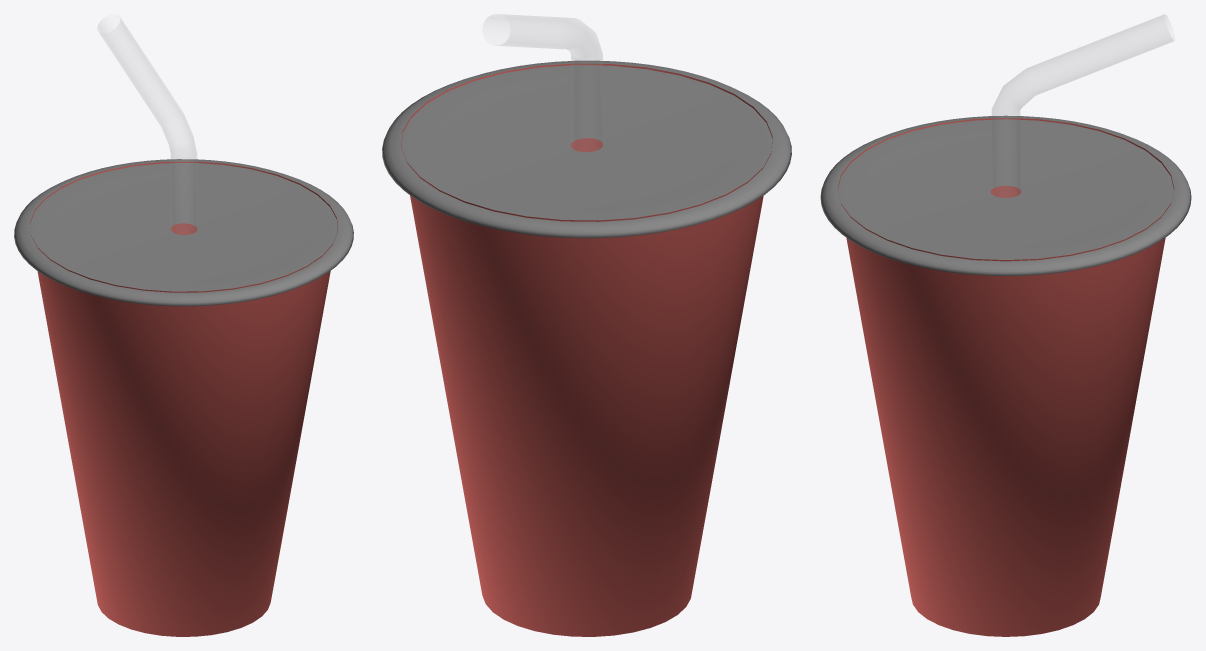
The model's file is cup.fbx.
The picture shows the model from 3 angles, left to right: view 1: azimuth 30°, elevation 25°; view 2: azimuth 150°, elevation 25°; view 3: azimuth 270°, elevation 25°; orthographic projection. The views are drawn at different scales.
Parts seen in each view (by area): view 1: Cylinder, Cylinder.001, Cylinder.002; view 2: Cylinder, Cylinder.001, Cylinder.002; view 3: Cylinder, Cylinder.001, Cylinder.002.
Boxes of the visible parts, left/top/right/bottom form: Cylinder: left=30, top=161, right=337, bottom=636; Cylinder.001: left=14, top=159, right=353, bottom=306; Cylinder.002: left=99, top=18, right=196, bottom=234; Cylinder: left=401, top=63, right=772, bottom=636; Cylinder.001: left=382, top=60, right=791, bottom=238; Cylinder.002: left=497, top=14, right=602, bottom=151; Cylinder: left=837, top=117, right=1174, bottom=636; Cylinder.001: left=820, top=115, right=1191, bottom=275; Cylinder.002: left=992, top=14, right=1173, bottom=197.
Bounding box in the file's own units: 391 × 676 × 391.
